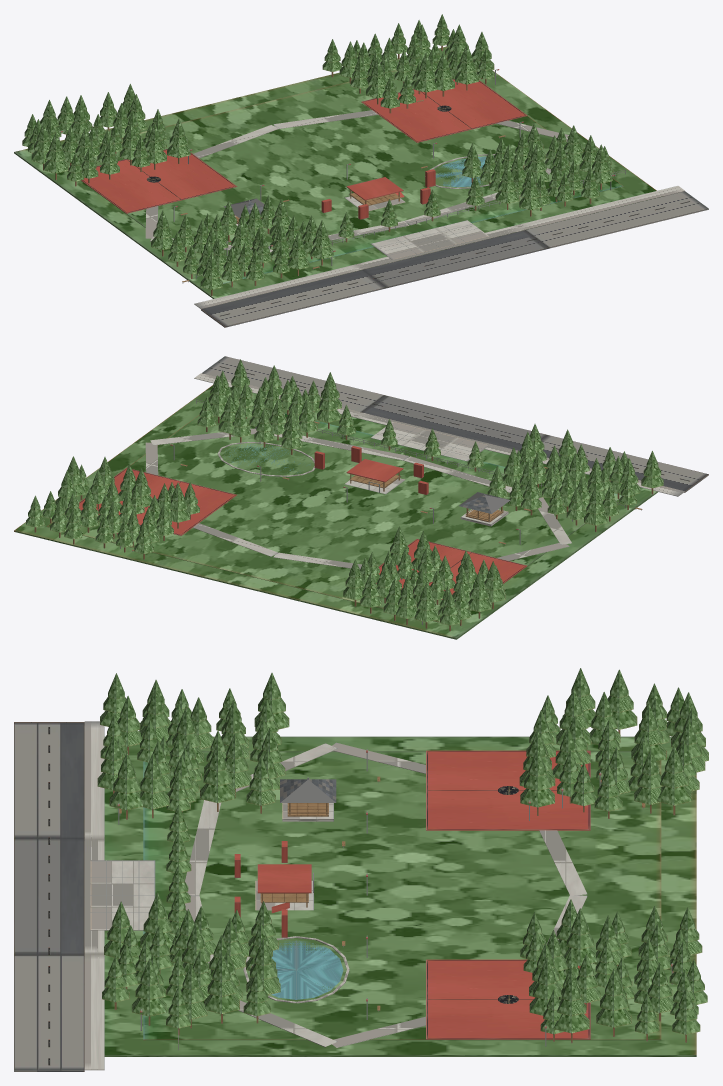
3 views of the same model, one above another, from view 1: azimuth 30°, elevation 25°; view 2: azimuth 150°, elevation 25°; view 3: azimuth 270°, elevation 25° (orthographic). The views are drawn at different scales.
Parts seen in each view (by area): view 1: 41113_50_030_90t_leaf, 41113_50_030_02a_lawn, 41113_50_030_01b_road, 41113_50_030_01a_ground, 41113_50_030_03b_court, 41113_50_030_03a_court, 41113_50_030_01d_walk, 41113_50_030_02b_path, 41113_50_030_01g_plaza, 41113_50_030_05d_leaf, 41113_50_030_04a_roof, 41113_50_030_04c_water (+2 smaller); view 2: 41113_50_030_02a_lawn, 41113_50_030_90t_leaf, 41113_50_030_01a_ground, 41113_50_030_01b_road, 41113_50_030_02b_path, 41113_50_030_03b_court, 41113_50_030_05d_leaf, 41113_50_030_01g_plaza, 41113_50_030_03a_court, 41113_50_030_01d_walk, 41113_50_030_04a_roof, 41113_50_030_04d_sculpture (+3 smaller); view 3: 41113_50_030_02a_lawn, 41113_50_030_90t_leaf, 41113_50_030_01b_road, 41113_50_030_01a_ground, 41113_50_030_03a_court, 41113_50_030_03b_court, 41113_50_030_02b_path, 41113_50_030_01d_walk, 41113_50_030_05d_leaf, 41113_50_030_01g_plaza, 41113_50_030_04c_water, 41113_50_030_04a_roof (+4 smaller).
Part boxes in pixels (x1,y1,x2,y2): 41113_50_030_90t_leaf: (22, 14, 612, 289); 41113_50_030_02a_lawn: (66, 58, 623, 283); 41113_50_030_01b_road: (201, 191, 708, 327); 41113_50_030_01a_ground: (14, 46, 662, 298); 41113_50_030_03b_court: (361, 79, 527, 142); 41113_50_030_03a_court: (81, 149, 237, 213); 41113_50_030_01d_walk: (194, 186, 684, 308); 41113_50_030_02b_path: (145, 110, 569, 252); 41113_50_030_01g_plaza: (371, 220, 488, 259); 41113_50_030_05d_leaf: (212, 146, 613, 254); 41113_50_030_04a_roof: (346, 177, 403, 200); 41113_50_030_04c_water: (435, 156, 493, 187); 41113_50_030_02a_lawn: (47, 405, 621, 622); 41113_50_030_90t_leaf: (26, 359, 663, 625); 41113_50_030_01a_ground: (14, 385, 657, 639); 41113_50_030_01b_road: (202, 356, 708, 492); 41113_50_030_02b_path: (145, 428, 571, 569); 41113_50_030_03b_court: (79, 468, 236, 535); 41113_50_030_05d_leaf: (208, 375, 613, 494); 41113_50_030_01g_plaza: (371, 421, 488, 461); 41113_50_030_03a_court: (376, 538, 527, 599); 41113_50_030_01d_walk: (194, 373, 684, 496); 41113_50_030_04a_roof: (346, 459, 403, 482); 41113_50_030_04d_sculpture: (314, 446, 428, 494); 41113_50_030_02a_lawn: (143, 751, 661, 1040); 41113_50_030_90t_leaf: (97, 668, 708, 1034); 41113_50_030_01b_road: (14, 722, 84, 1071); 41113_50_030_01a_ground: (104, 736, 696, 1056); 41113_50_030_03a_court: (426, 750, 590, 830); 41113_50_030_03b_court: (426, 959, 590, 1039); 41113_50_030_02b_path: (185, 742, 587, 1047); 41113_50_030_01d_walk: (84, 721, 104, 1070); 41113_50_030_05d_leaf: (166, 703, 191, 1028); 41113_50_030_01g_plaza: (90, 860, 155, 930); 41113_50_030_04c_water: (249, 940, 343, 999); 41113_50_030_04a_roof: (257, 864, 311, 893).
Size of the model in its own units: 140 by 13.56 by 118.
Materials: 10 (10 with a texture image).
